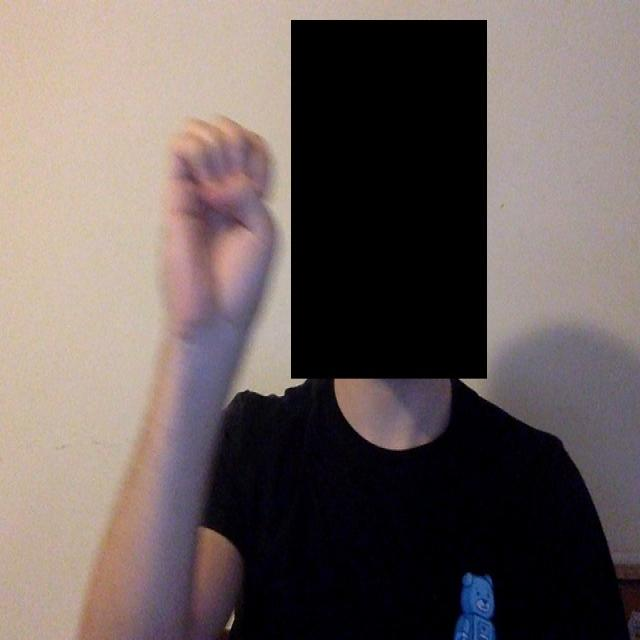E: (160, 91, 286, 408)
